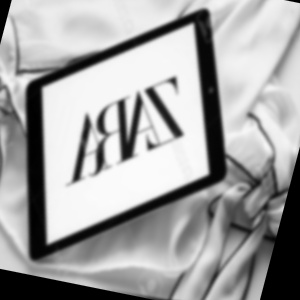zara: (158, 17, 264, 108)
